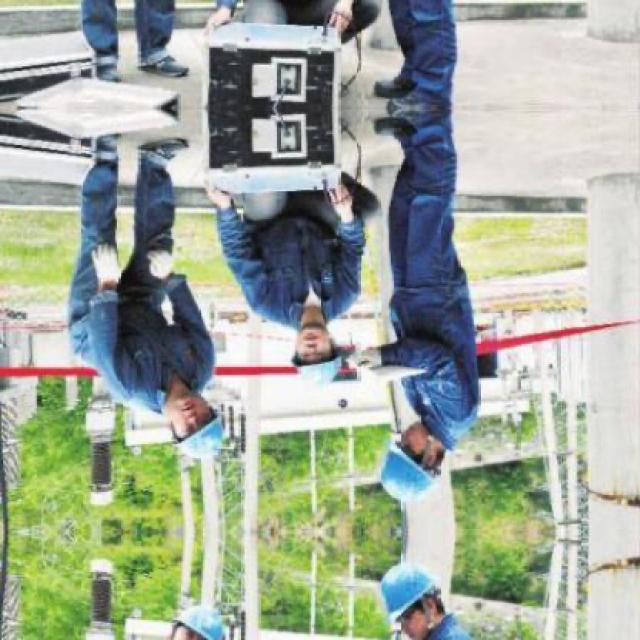con casco: (260, 290, 372, 391), (366, 410, 484, 502), (132, 381, 240, 468), (368, 549, 457, 622)
